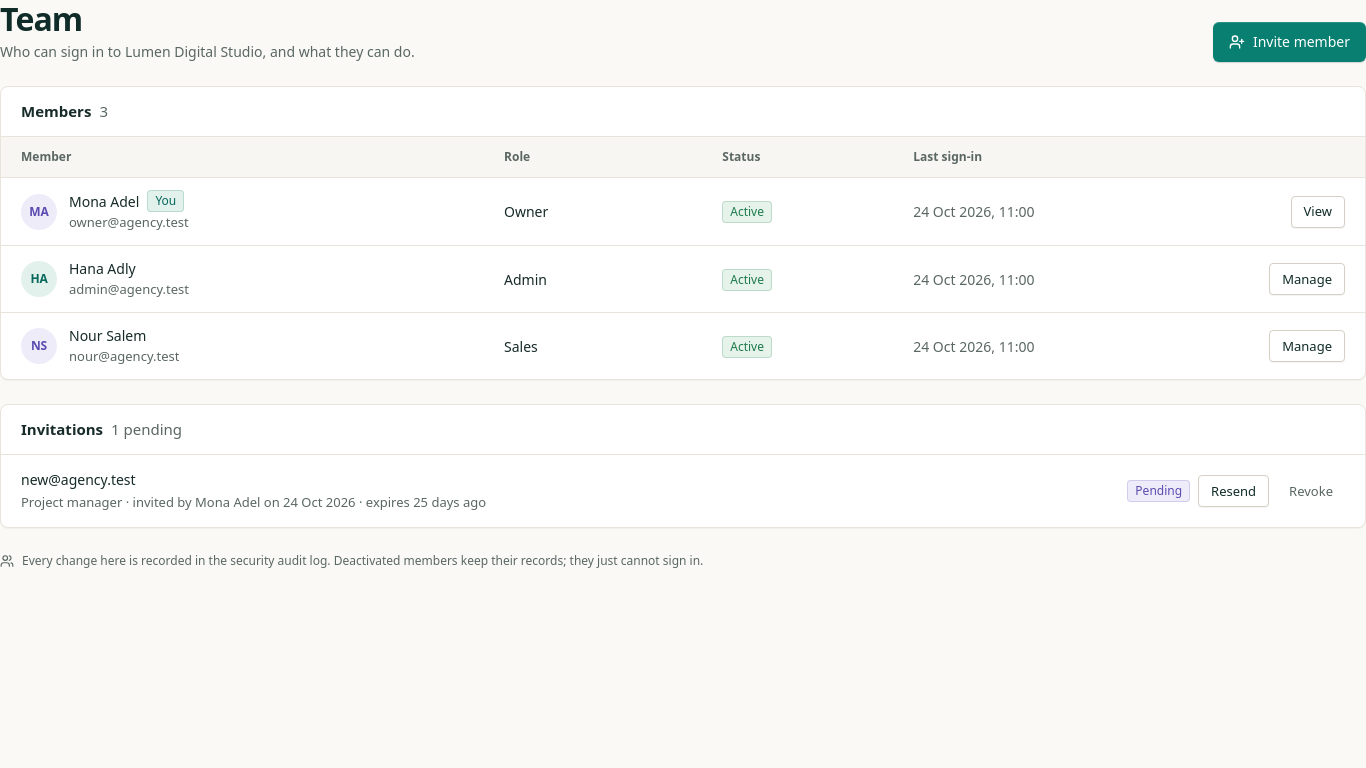
TeamPage › changes a role with the member version and explains stale conflicts
The image size is (1366, 768).
Click the button with aria-label "Manage Nour Salem". click: {"x": 1307, "y": 346}
box: [1269,330,1345,362]
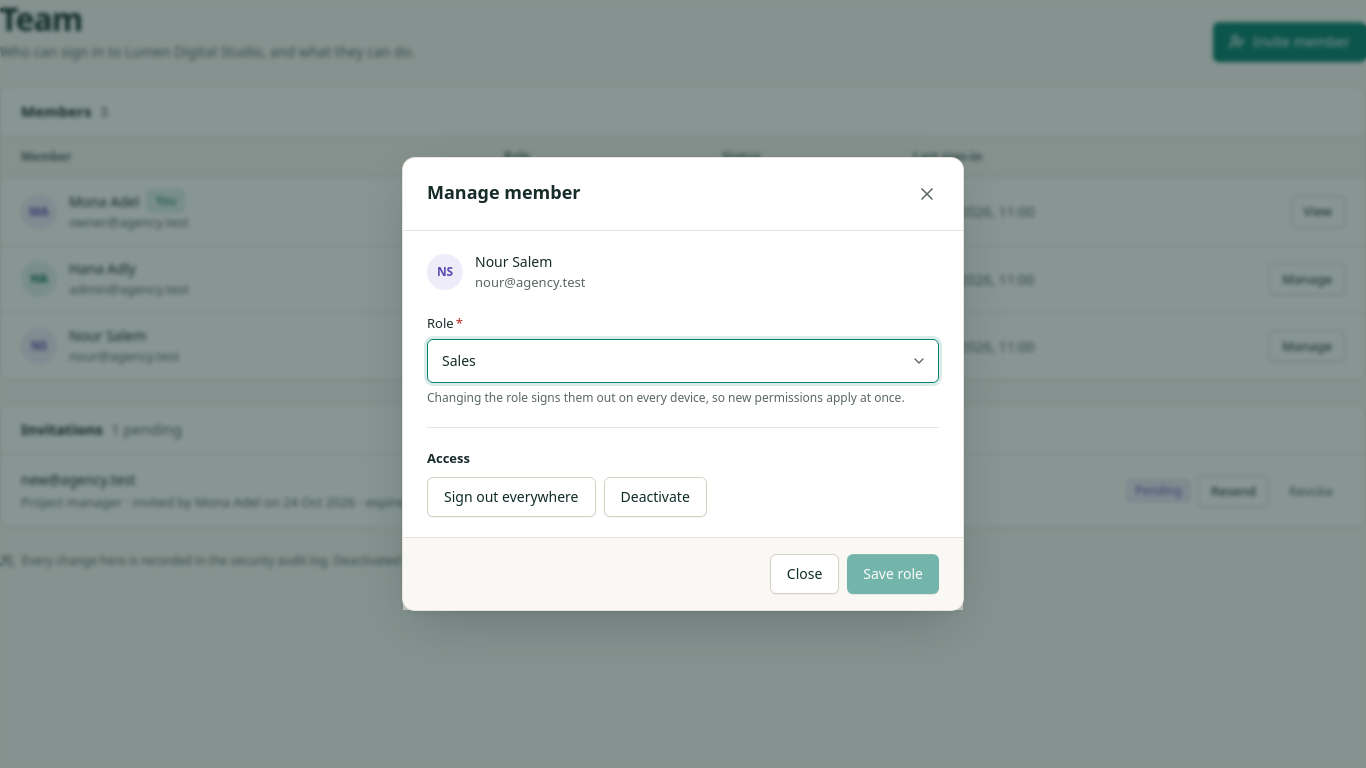
Select "Sales manager" in the dropdown labelled "Role*". click: {"x": 683, "y": 361}
box: [427,339,939,383]
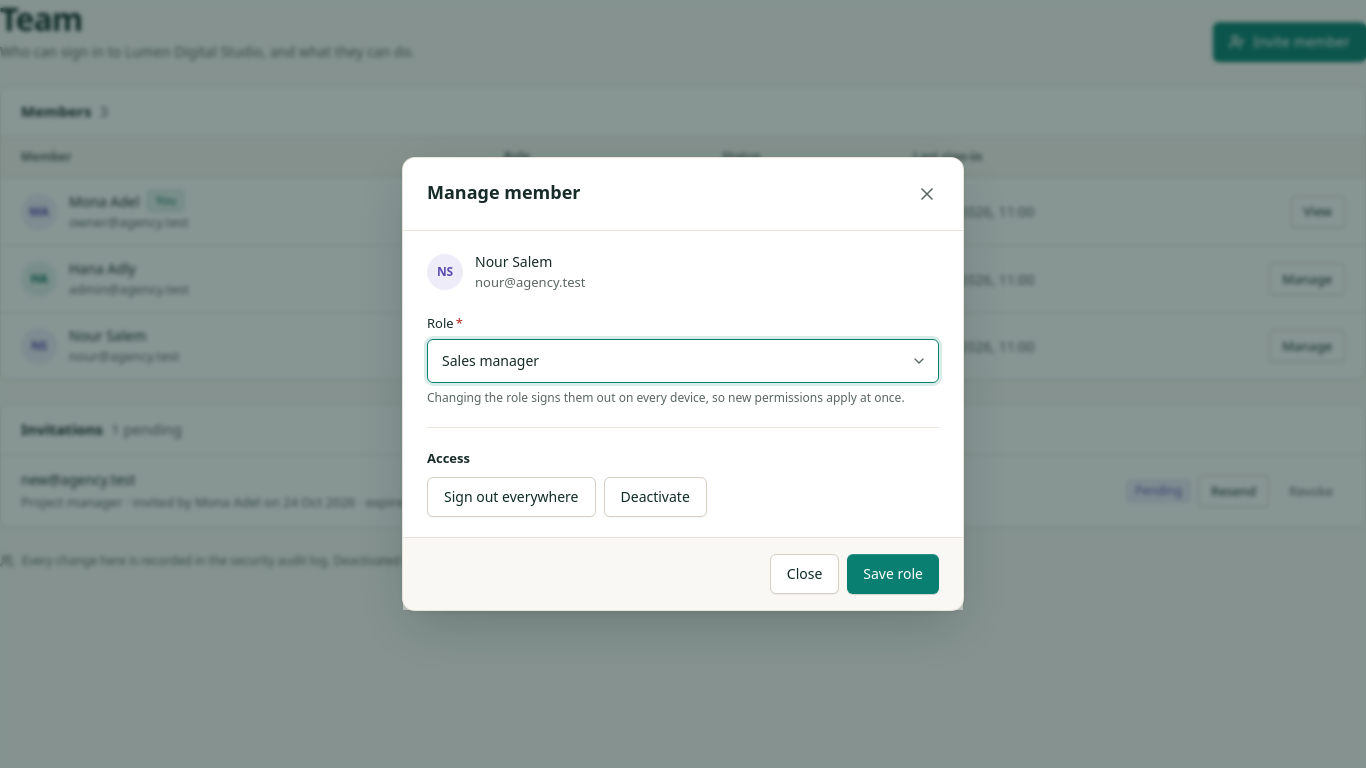
Click the button "Save role". click: {"x": 893, "y": 574}
box: [847,554,939,594]
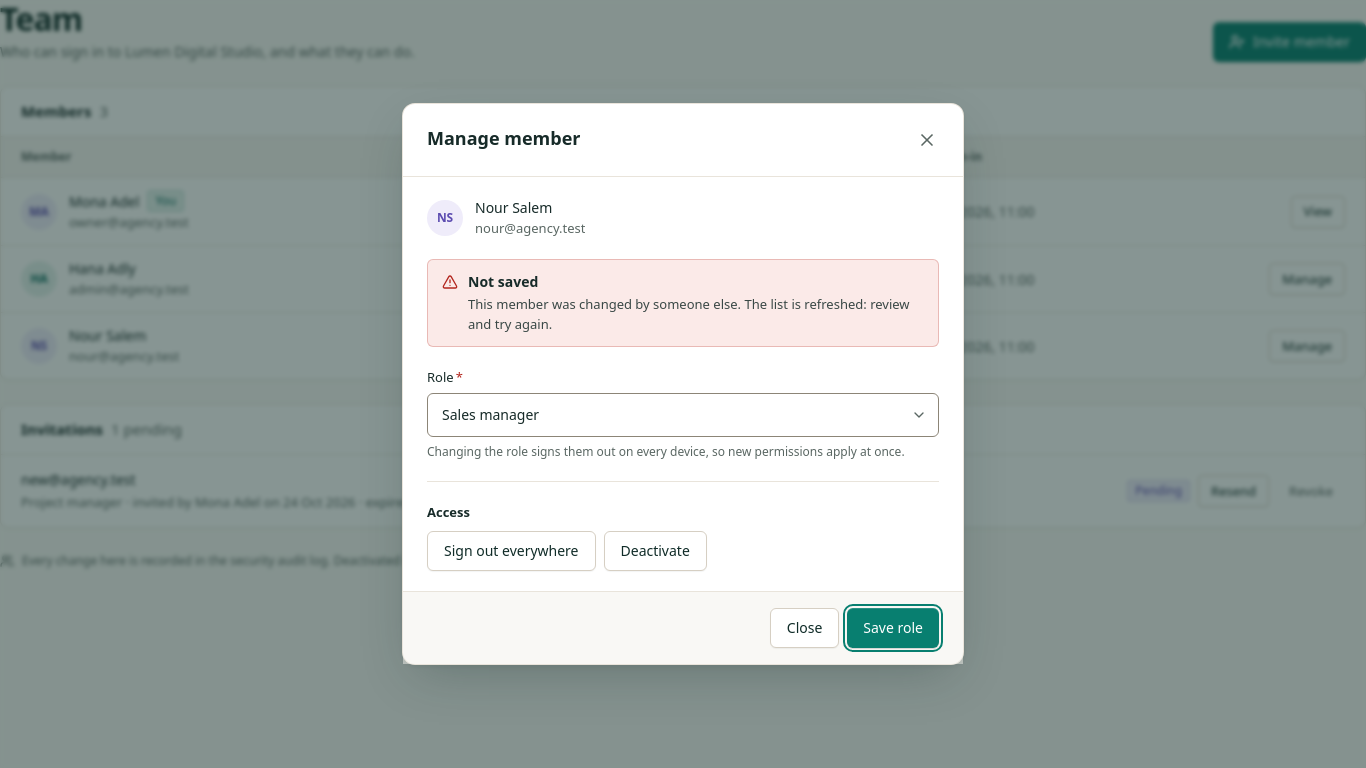
Check: the text "changed by someone else" is shown, box [468,295,910,333]
